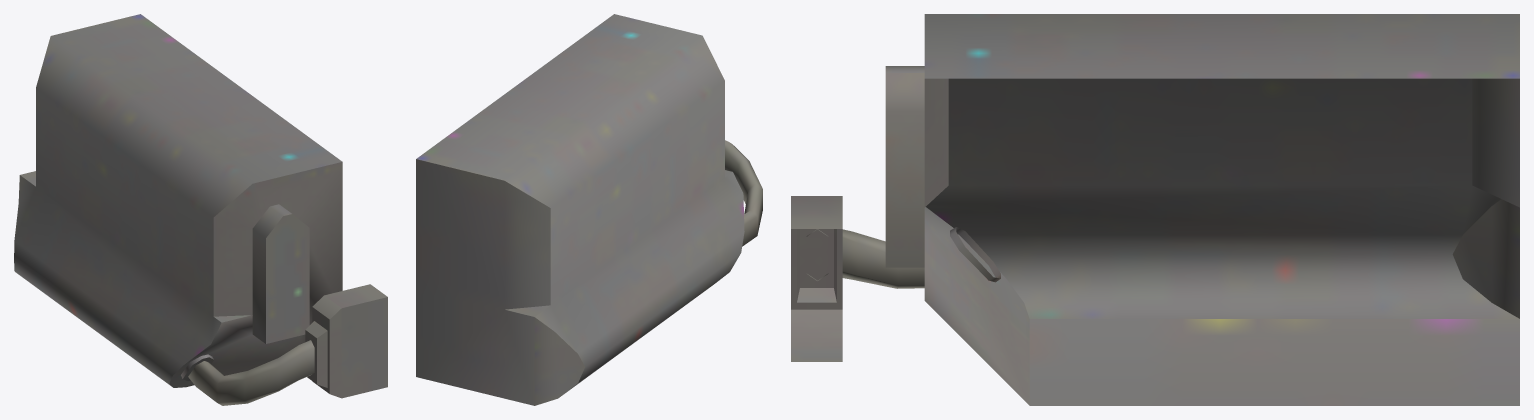
The model's file is acc4.obj.
The picture shows the model from 3 angles, left to right: view 1: azimuth 30°, elevation 25°; view 2: azimuth 150°, elevation 25°; view 3: azimuth 270°, elevation 25°; orthographic projection. The views are drawn at different scales.
Visible parts, largest first — view 1: acc4; view 2: acc4; view 3: acc4.
Part boxes in pixels (box(x1,y1,x2,y2)): acc4: box(14, 14, 387, 405); acc4: box(416, 14, 762, 405); acc4: box(791, 14, 1519, 405).
Size of the model in its own units: 4.21 by 5.97 by 12.06.
